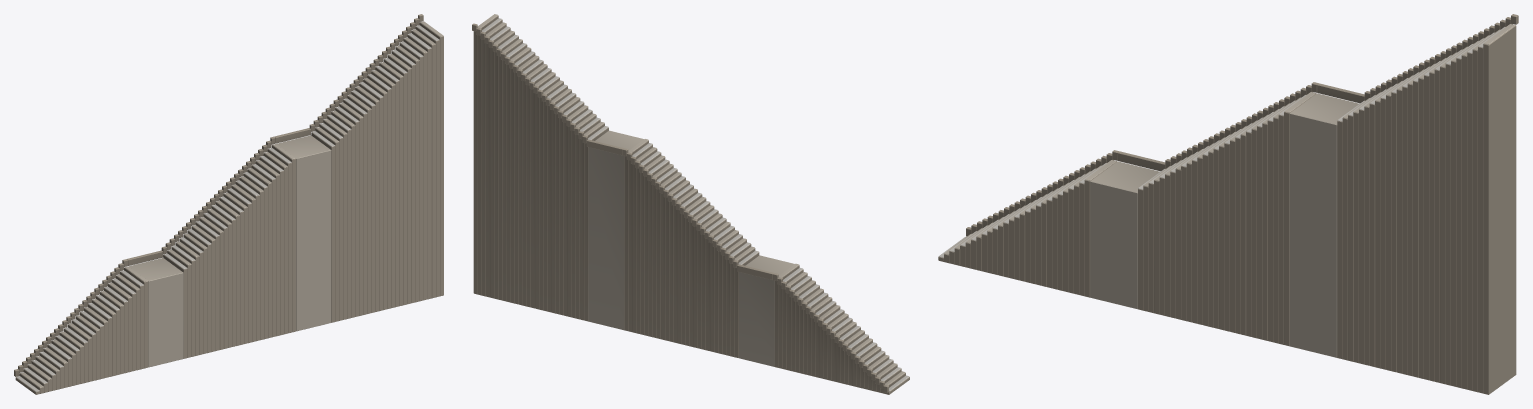
The model's file is stairs_ridge.glb.
3 renders of one model, left to right at view 1: azimuth 30°, elevation 25°; view 2: azimuth 150°, elevation 25°; view 3: azimuth 330°, elevation 25°, orthographic. The views are drawn at different scales.
Size of the model in its own units: 34.58 by 21.5 by 3.25.
